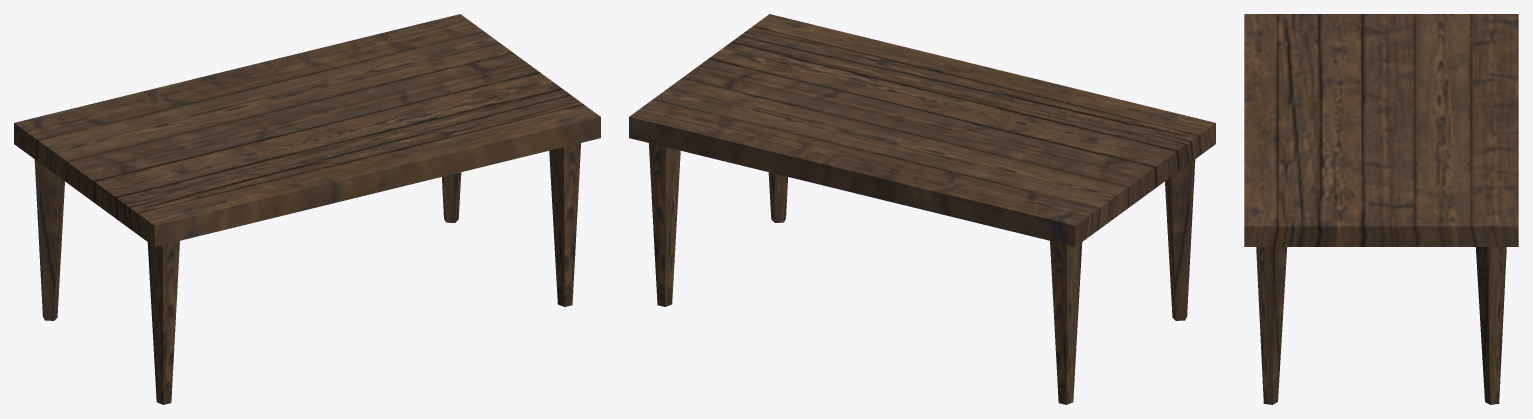
File: table.fbx
3 views of the same model, side by side, from view 1: azimuth 30°, elevation 25°; view 2: azimuth 150°, elevation 25°; view 3: azimuth 270°, elevation 25° (orthographic). The views are drawn at different scales.
Parts seen in each view (by area): view 1: table, leg; view 2: table, leg; view 3: table, leg.
Boxes of the visible parts, x1=… form: table: x1=14, y1=14, x2=600, y2=246; leg: x1=34, y1=143, x2=580, y2=404; table: x1=629, y1=14, x2=1215, y2=246; leg: x1=649, y1=143, x2=1195, y2=404; table: x1=1244, y1=14, x2=1518, y2=246; leg: x1=1256, y1=247, x2=1506, y2=404.
Bounding box in the file's own units: 246 × 101 × 134.
